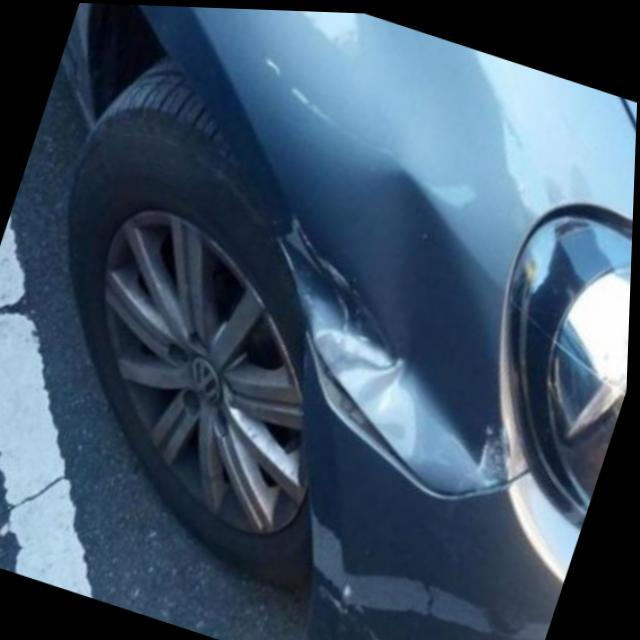dent: (344, 169, 504, 444), (280, 211, 418, 456)
rub: (326, 566, 375, 640), (469, 422, 516, 486)
